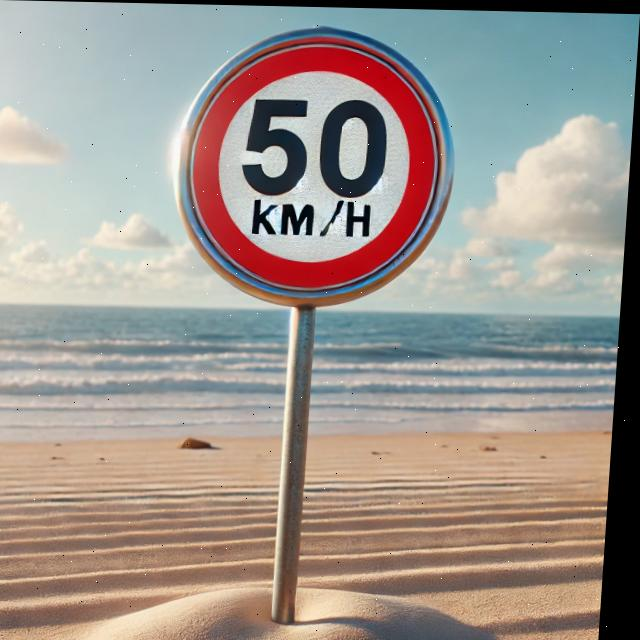Speed limit 50: (169, 21, 466, 311)
